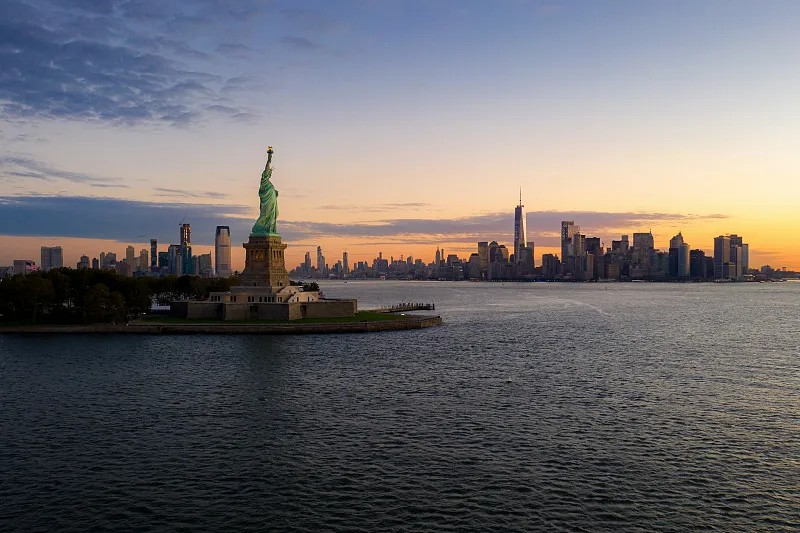SL: (239, 146, 288, 287)
